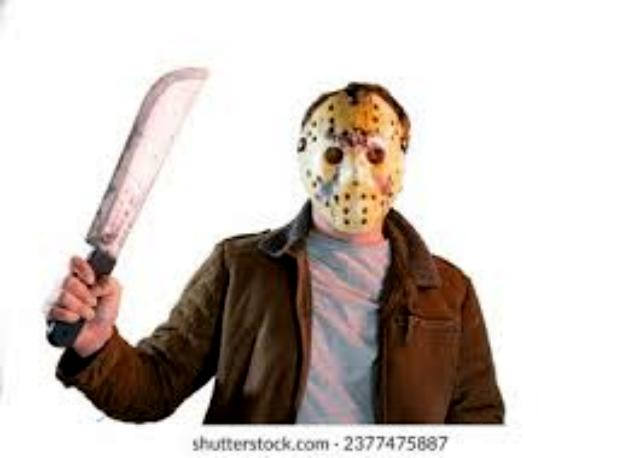long knife: (46, 46, 224, 352)
